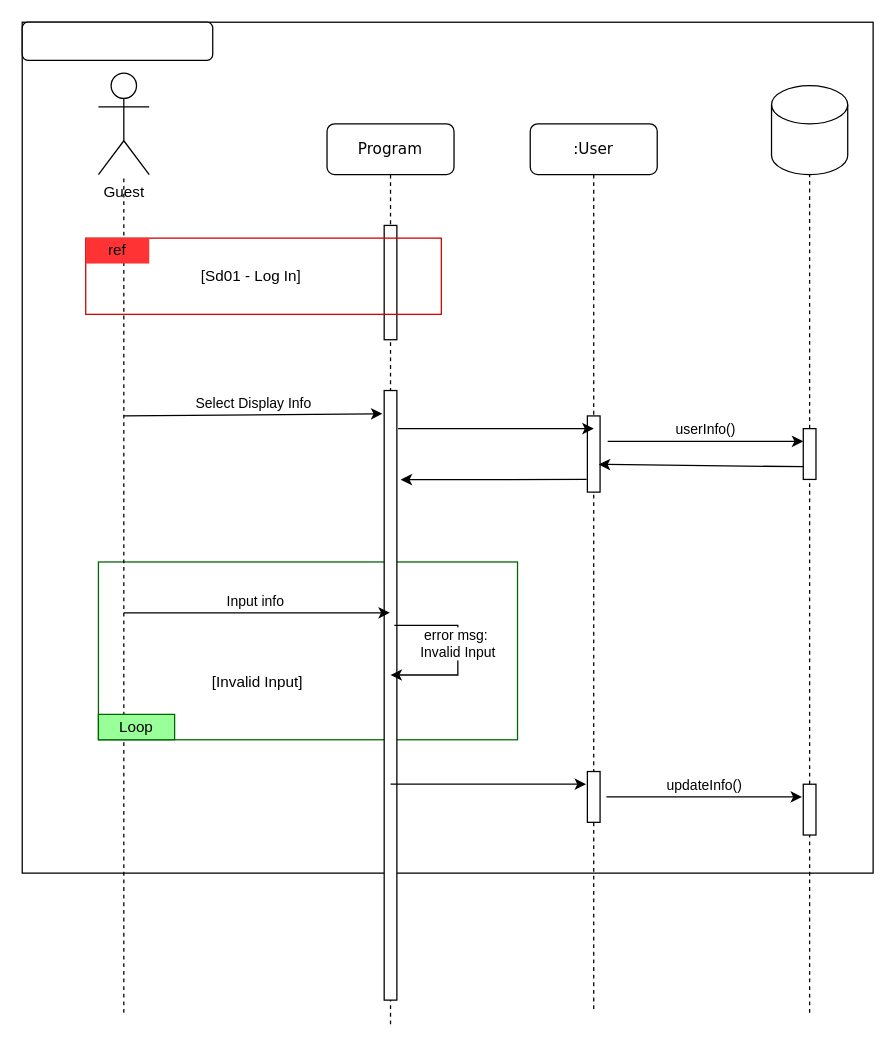
This 895x1048 diagram has some shape labels left out. The box of each missing label's shape, as (x1, y1, x2, y2) in pixels:
DB: (770, 84, 848, 175)
Sd05 - Update Account Info: (21, 21, 213, 60)
